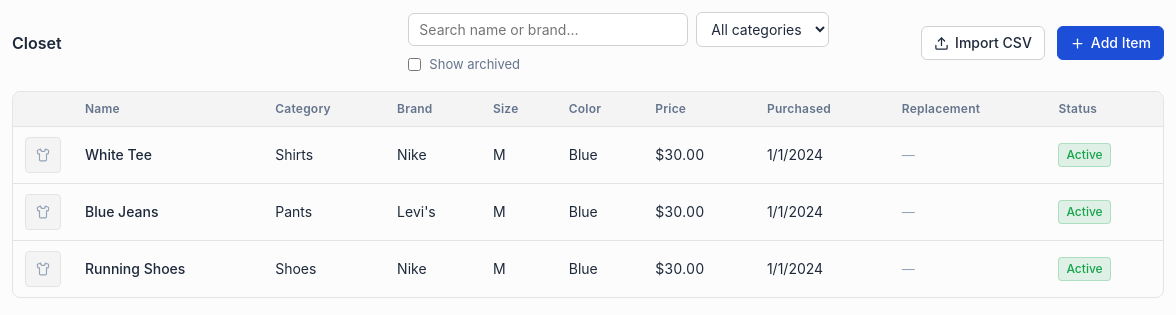
Scenario: ClosetView › filters by category dropdown
The image size is (1176, 315).
Select "Shoes" in the dropdown at (763,30), box [696,12,829,47]
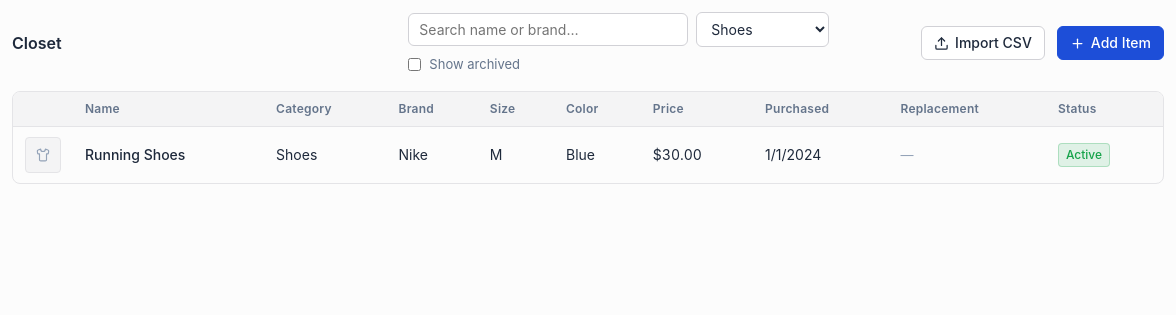
Expected: the text "Running Shoes" is shown, [73,126,264,182]
Expected: the text "White Tee" is gone
